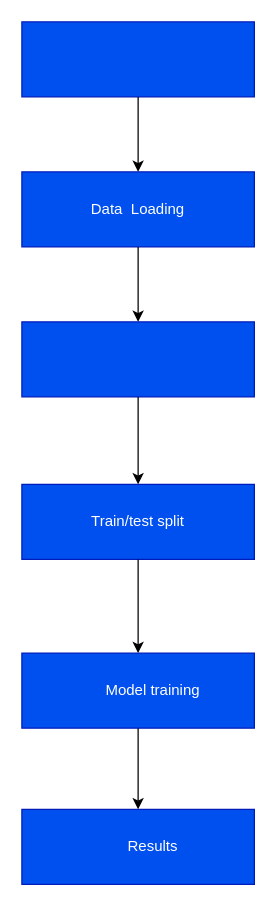
This 276x906 diagram has some shape labels left out. Each missing label, with the box of its shape:
Data preprocessing: (21, 321, 254, 397)
Data Selection: (21, 21, 254, 97)
